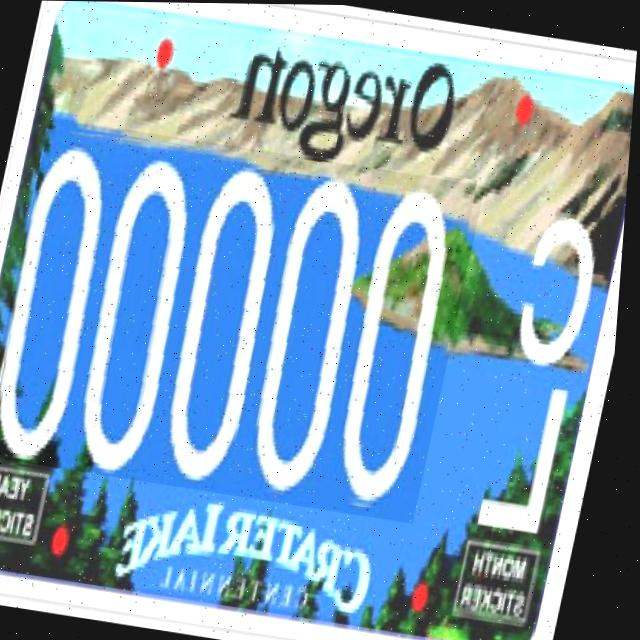LicensePlate: (0, 117, 492, 523)
